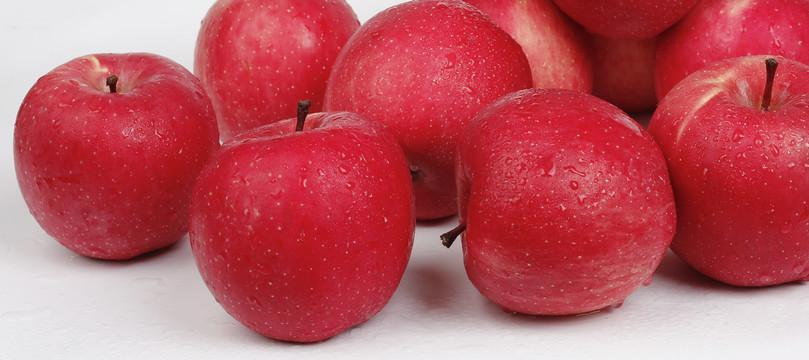apple: (186, 112, 413, 343), (448, 85, 674, 317), (325, 2, 533, 223), (13, 52, 226, 263), (648, 58, 809, 289), (193, 1, 360, 143), (650, 2, 809, 101), (460, 1, 596, 98)
